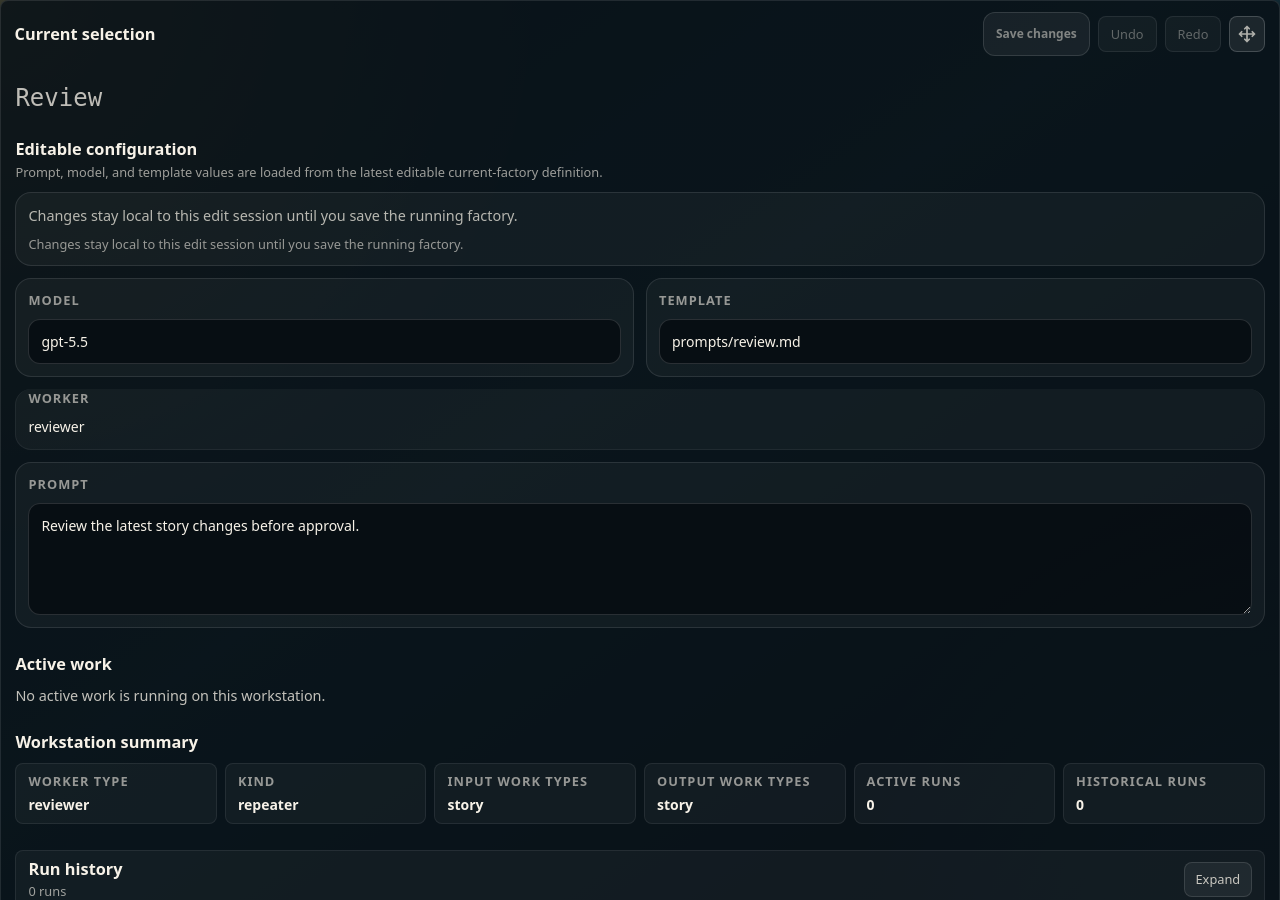
CurrentSelectionWidget workstation save flow › keeps the header save action disabled until the workstation draft changes
This screenshot has width=1280, height=900.
Expected: the button "Save changes" is disabled, [983,12,1090,56]
Replace the text in the text box labelled "Prompt" with "Updated review instructions." at (640, 559), box [28,503,1252,615]
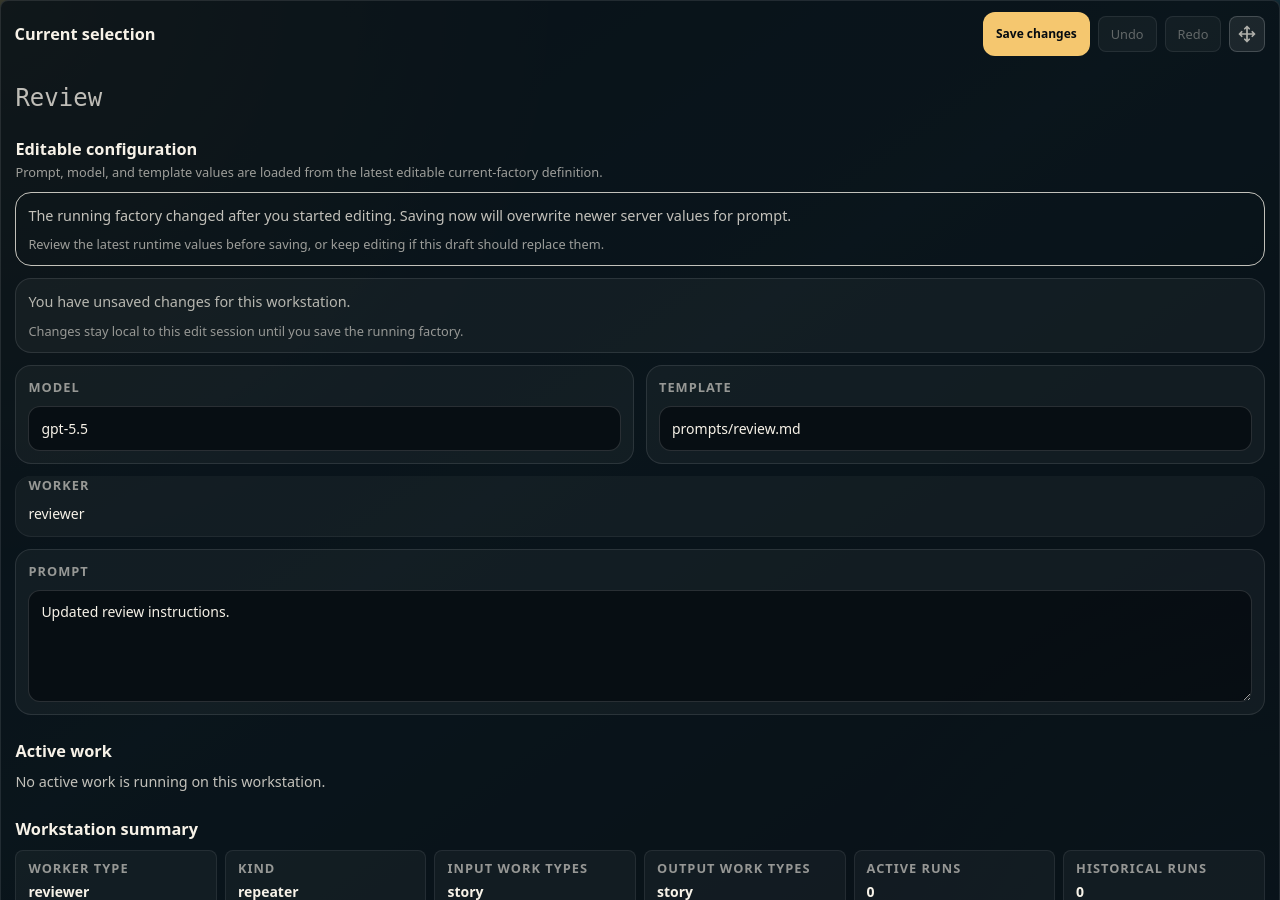
Result: the button "Save changes" is enabled at [983,12,1090,56]
